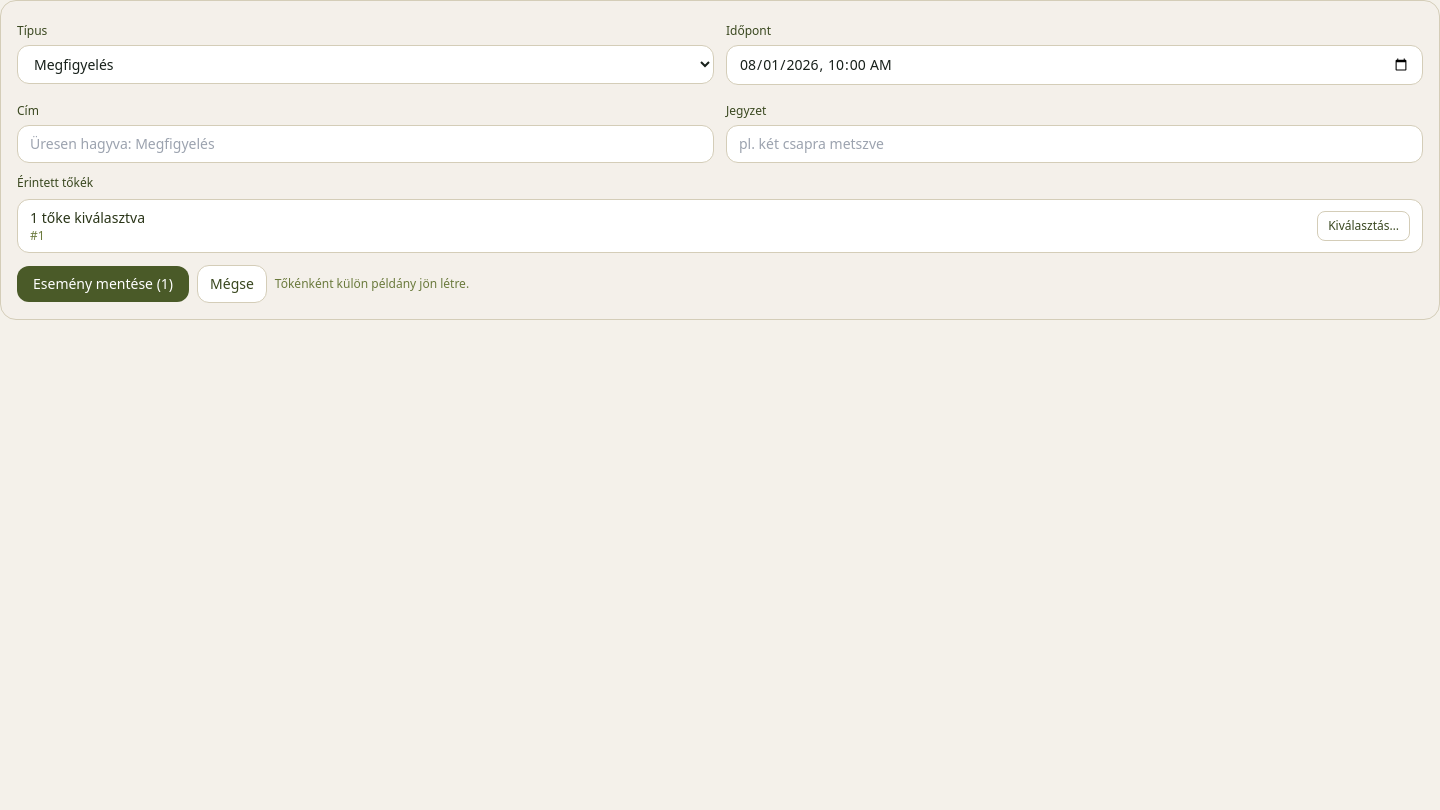
Test: VineEventForm célválasztás › a `Mégse` után az űrlap összefoglalója változatlan
This screenshot has width=1440, height=810.
Click the button "Kiválasztás…".
click(1364, 226)  # box [1317,211,1410,241]
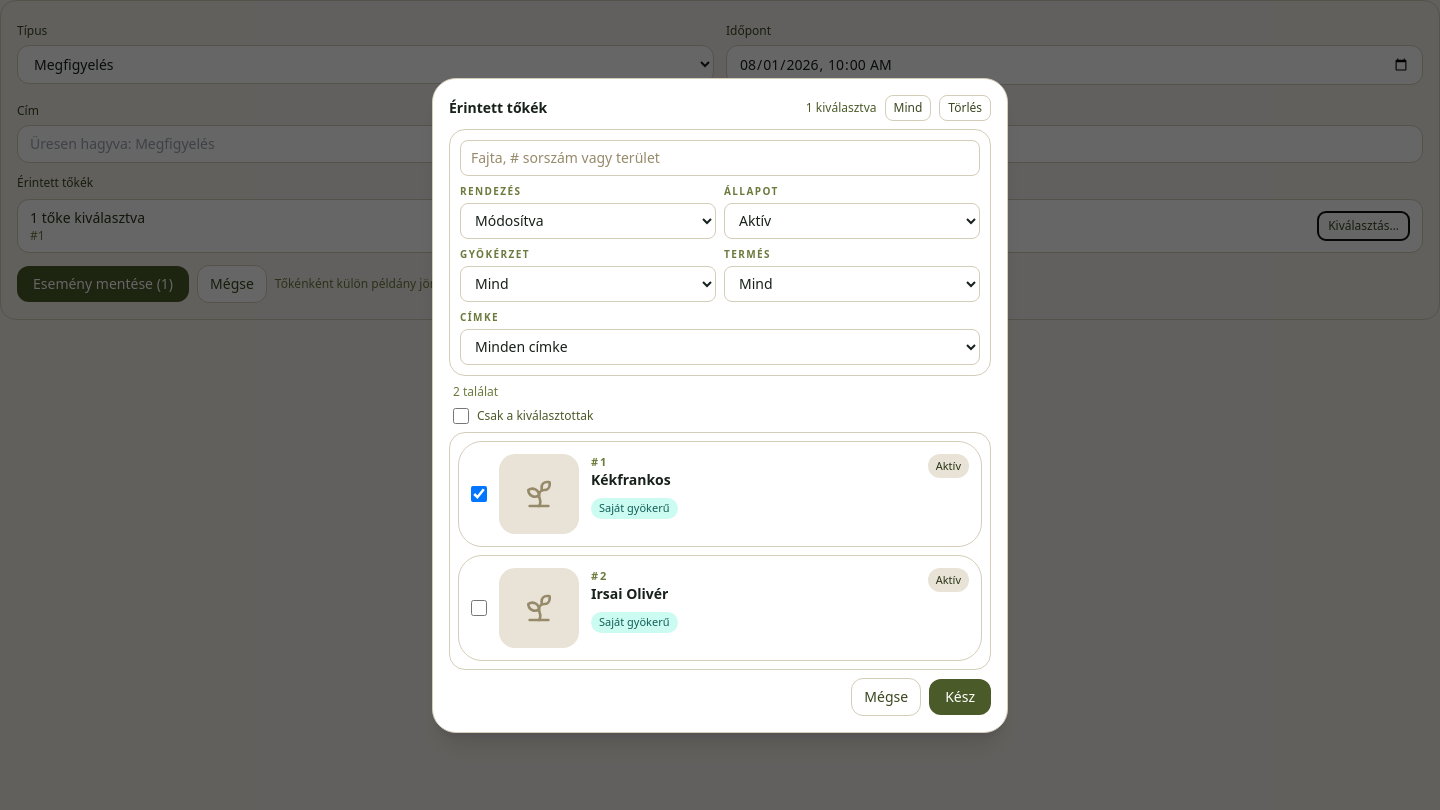
Click the checkbox named "#2 - Irsai Olivér".
click(479, 608)  # box [471,600,487,616]
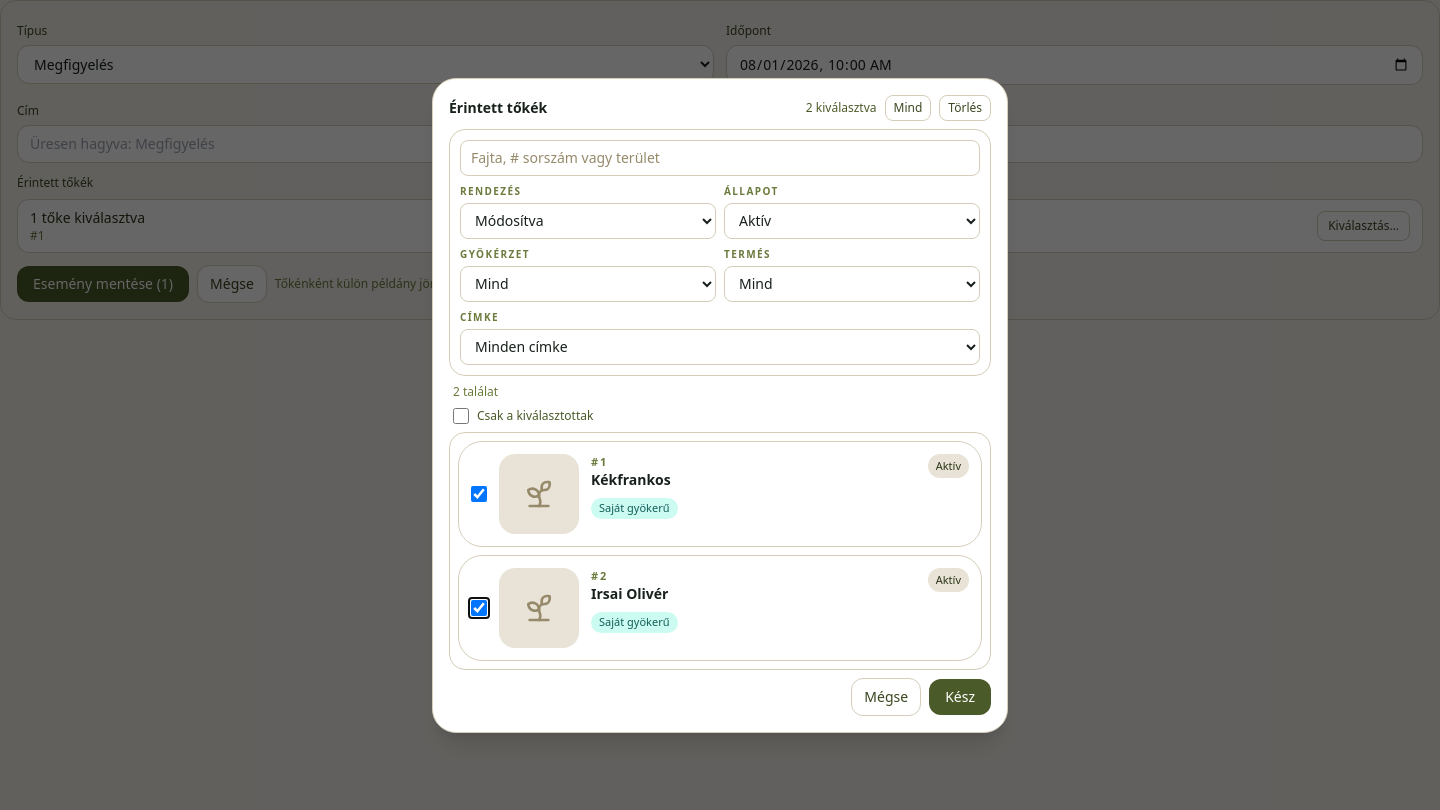
Click the button "Mégse".
click(886, 696)  # box [851,678,921,716]
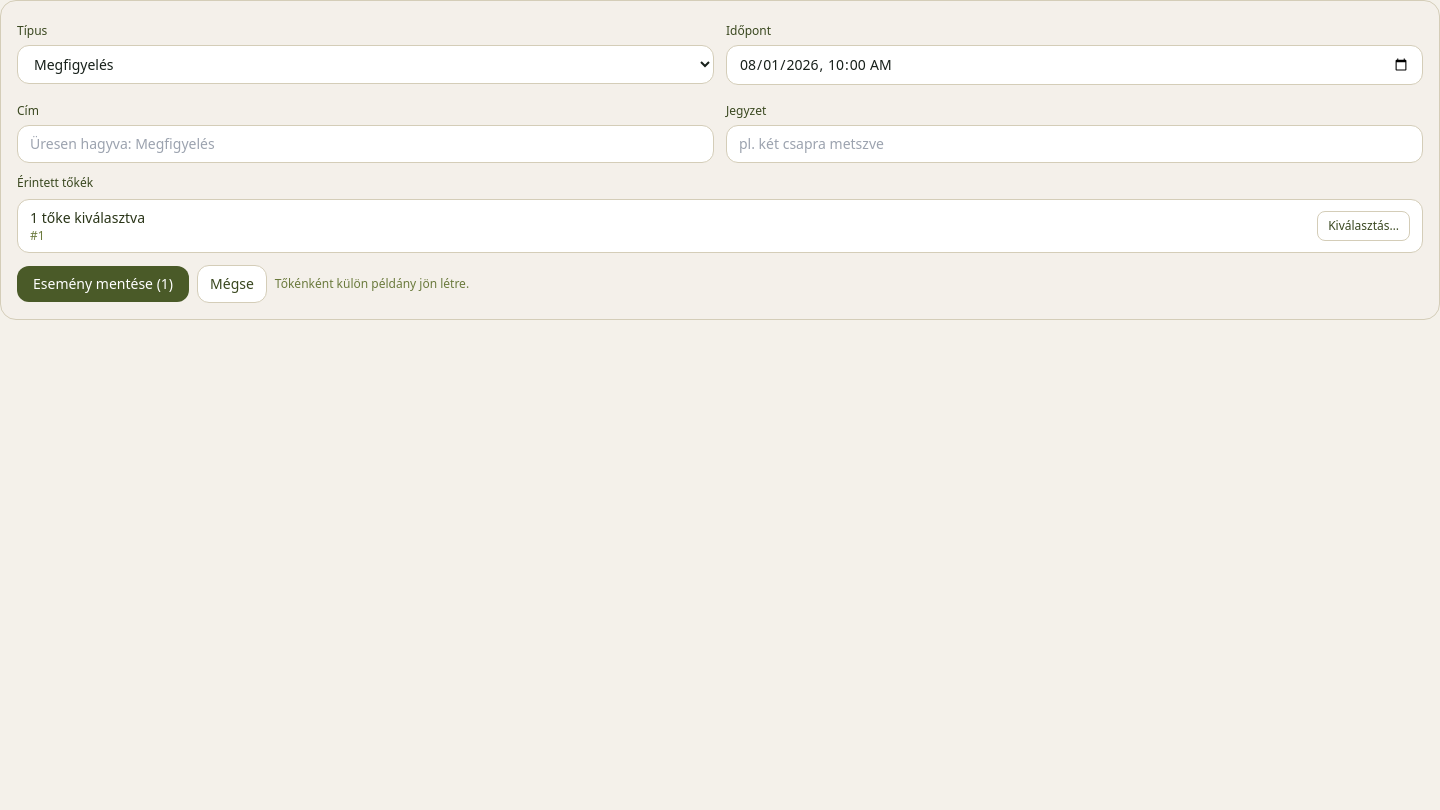
Expected: the text "1 tőke kiválasztva" is shown, [30,208,145,228]
Now the dialog is gone
